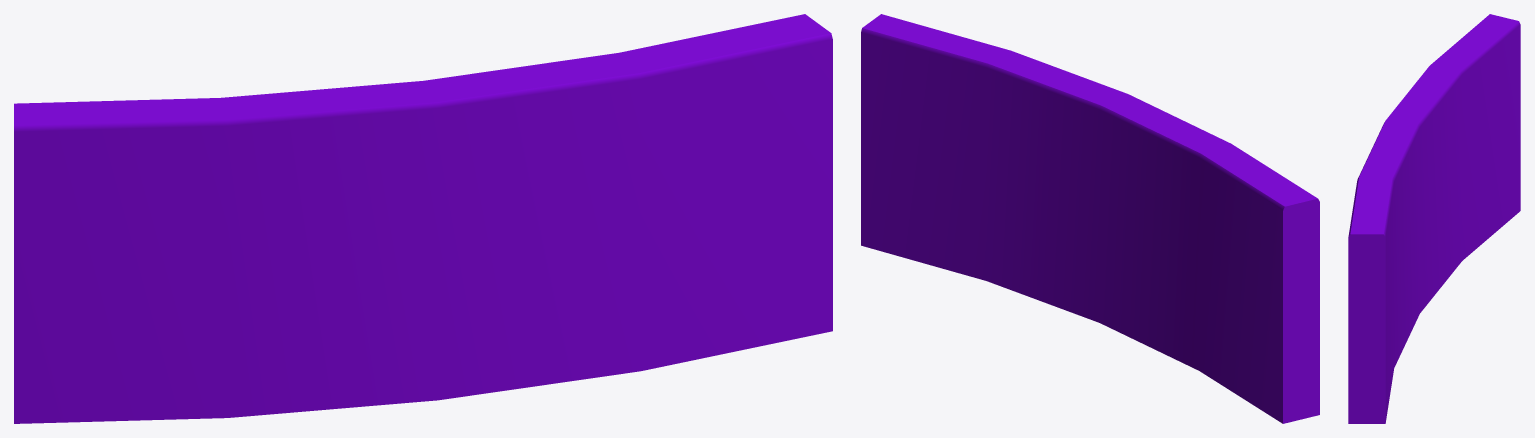
File: RampN_C_15Deg_Left.fbx
3 views of the same model, side by side, from view 1: azimuth 30°, elevation 25°; view 2: azimuth 150°, elevation 25°; view 3: azimuth 270°, elevation 25° (orthographic). The views are drawn at different scales.
Parts seen in each view (by area): view 1: RampN_C_15Deg_Left; view 2: RampN_C_15Deg_Left; view 3: RampN_C_15Deg_Left.
Part boxes in pixels (x1,y1,x2,y2): RampN_C_15Deg_Left: (14, 14, 832, 423); RampN_C_15Deg_Left: (861, 14, 1319, 423); RampN_C_15Deg_Left: (1348, 14, 1520, 423).
Size of the model in its own units: 7.27 by 2.91 by 2.39.
